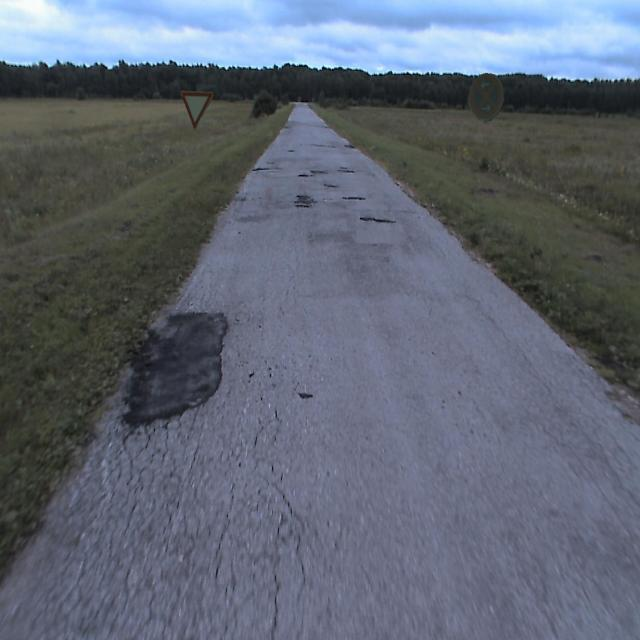road: (0, 101, 639, 639)
